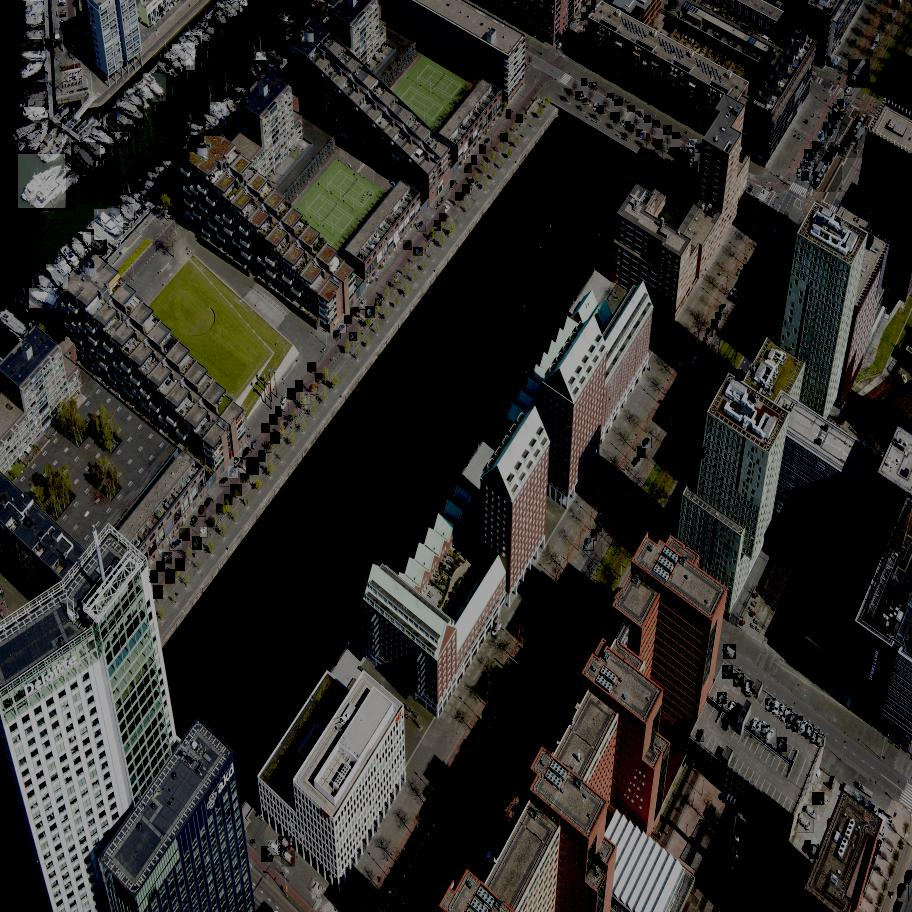large-vehicle: (466, 736, 509, 824), (813, 142, 845, 192), (839, 111, 869, 158), (848, 59, 871, 89)
ship: (16, 154, 73, 208), (26, 169, 83, 211), (270, 5, 304, 46), (25, 118, 58, 153), (44, 130, 72, 169), (34, 123, 63, 160), (94, 209, 126, 241), (70, 142, 101, 175), (35, 272, 65, 306), (113, 98, 149, 125), (0, 309, 30, 340), (121, 84, 150, 116), (75, 230, 109, 256), (80, 134, 113, 160), (102, 114, 128, 145), (106, 108, 138, 132), (53, 255, 81, 282), (68, 233, 92, 264), (157, 57, 184, 84), (60, 244, 86, 272), (143, 73, 168, 102), (17, 296, 47, 320), (19, 59, 49, 82), (90, 126, 120, 149), (178, 36, 203, 63), (172, 44, 197, 71), (13, 120, 42, 143), (45, 264, 70, 290), (29, 288, 59, 309), (121, 193, 147, 216), (107, 206, 134, 228), (164, 50, 187, 75), (133, 84, 161, 104), (139, 177, 164, 198), (215, 2, 241, 22), (145, 169, 169, 190), (151, 164, 175, 185), (23, 82, 49, 101), (191, 27, 218, 45), (218, 92, 240, 114), (24, 108, 50, 125), (160, 156, 181, 177), (256, 52, 279, 71), (22, 92, 50, 107), (203, 111, 226, 129), (197, 19, 220, 37), (173, 149, 194, 168), (210, 103, 228, 125), (217, 100, 236, 120), (212, 8, 230, 28), (183, 32, 205, 48), (204, 118, 223, 136), (187, 121, 208, 137), (266, 48, 285, 65), (134, 192, 151, 209), (250, 61, 270, 75), (25, 8, 45, 22), (24, 101, 47, 113), (22, 50, 47, 61), (121, 205, 136, 223), (139, 187, 155, 203), (205, 16, 223, 30), (26, 1, 44, 15), (18, 40, 43, 50), (232, 92, 247, 108), (234, 85, 251, 98), (249, 66, 262, 82), (191, 129, 204, 144), (187, 137, 199, 152), (25, 30, 44, 38), (284, 33, 296, 44), (26, 18, 42, 26), (324, 7, 334, 18), (78, 166, 87, 177), (320, 2, 329, 13), (284, 12, 293, 22), (291, 14, 299, 24), (280, 10, 289, 18), (96, 162, 101, 169)
small-vehicle: (797, 813, 816, 834), (279, 850, 297, 867), (896, 884, 912, 902), (722, 644, 739, 660), (277, 836, 292, 854), (268, 840, 284, 856), (803, 804, 819, 820), (246, 458, 261, 475), (544, 601, 559, 618), (261, 846, 276, 862), (785, 714, 800, 729), (776, 737, 789, 753), (766, 728, 779, 744), (792, 717, 805, 733), (152, 585, 166, 599), (165, 569, 178, 584), (145, 570, 160, 583), (491, 621, 503, 637), (505, 797, 518, 811), (733, 674, 746, 688), (777, 705, 789, 720), (781, 709, 793, 724), (809, 729, 821, 744), (812, 793, 827, 805), (722, 666, 735, 679), (755, 722, 768, 735), (728, 701, 740, 715), (798, 722, 810, 736), (809, 844, 820, 859), (179, 528, 191, 541), (230, 484, 243, 496), (365, 306, 378, 318), (631, 456, 643, 469), (572, 677, 585, 689), (613, 587, 626, 599), (765, 699, 777, 712), (170, 540, 184, 551), (192, 536, 203, 550), (584, 538, 595, 552), (487, 849, 497, 864), (805, 725, 815, 740), (161, 552, 173, 564), (174, 559, 186, 571), (264, 441, 276, 453), (286, 411, 298, 423), (300, 393, 312, 405), (308, 383, 320, 395), (717, 692, 729, 704), (257, 451, 269, 463), (287, 388, 298, 401), (279, 420, 290, 433), (570, 697, 581, 710), (251, 437, 261, 451), (751, 717, 761, 731), (270, 433, 282, 444), (499, 813, 510, 825), (554, 592, 566, 603), (243, 447, 253, 460), (281, 397, 290, 411), (805, 150, 814, 164), (315, 373, 326, 384), (351, 308, 362, 319), (642, 437, 653, 448), (228, 467, 238, 479), (235, 457, 245, 469), (269, 414, 279, 426), (613, 489, 623, 501), (637, 446, 647, 458), (684, 364, 694, 376), (816, 142, 826, 154), (486, 826, 494, 840), (535, 655, 543, 669), (216, 504, 226, 515), (224, 494, 234, 505), (832, 104, 842, 115), (403, 240, 413, 251), (417, 222, 427, 233), (619, 478, 629, 489), (695, 144, 706, 154), (734, 370, 744, 381), (190, 516, 199, 528), (198, 505, 207, 517), (204, 497, 213, 509), (295, 380, 304, 392), (359, 298, 368, 310), (601, 511, 610, 523), (691, 355, 700, 367), (745, 681, 752, 696), (762, 726, 770, 739), (697, 729, 705, 742), (262, 423, 272, 433), (220, 477, 230, 487), (338, 323, 348, 333), (344, 315, 354, 325), (668, 0, 678, 10), (655, 139, 665, 149), (686, 148, 696, 158), (671, 148, 681, 158), (719, 305, 729, 315), (663, 126, 673, 136), (762, 324, 772, 334), (200, 527, 209, 538), (240, 474, 251, 483), (156, 561, 165, 572), (333, 330, 342, 341), (394, 272, 403, 283), (546, 744, 555, 755), (607, 526, 616, 537), (812, 141, 821, 152), (661, 514, 669, 526), (804, 841, 812, 853), (275, 407, 284, 417), (636, 109, 645, 119), (308, 363, 317, 373), (500, 133, 509, 143), (413, 248, 423, 257), (439, 214, 449, 223), (588, 82, 598, 91), (516, 114, 525, 124), (566, 709, 572, 724), (680, 376, 689, 386), (711, 320, 720, 330), (729, 288, 738, 298), (807, 161, 816, 171), (801, 171, 810, 181), (434, 221, 442, 232), (566, 575, 574, 586), (674, 383, 682, 394), (552, 734, 560, 745), (608, 499, 615, 511), (723, 718, 730, 730), (774, 702, 780, 716), (557, 42, 566, 51), (57, 332, 66, 341), (349, 333, 358, 342), (485, 136, 494, 145), (445, 207, 454, 216), (575, 92, 584, 101), (456, 192, 465, 201), (620, 119, 629, 128), (689, 140, 698, 149), (844, 88, 853, 97), (208, 517, 216, 527), (168, 207, 176, 217), (464, 163, 472, 173), (652, 120, 662, 128), (583, 26, 591, 36), (831, 119, 839, 129), (818, 734, 824, 747), (165, 211, 173, 220), (375, 298, 383, 307), (582, 97, 591, 105), (593, 103, 601, 112), (828, 115, 837, 123), (743, 264, 752, 272), (800, 161, 808, 170), (893, 1, 902, 9), (480, 145, 487, 155), (463, 184, 470, 194), (614, 113, 621, 123), (841, 104, 848, 114), (707, 328, 714, 338), (699, 447, 705, 458), (636, 129, 644, 137), (581, 13, 589, 21), (587, 6, 595, 14), (568, 47, 576, 55), (581, 78, 589, 86), (598, 106, 606, 114), (625, 122, 633, 130), (644, 115, 652, 123), (469, 177, 476, 186), (471, 156, 478, 165), (607, 94, 616, 101), (627, 106, 636, 113), (668, 147, 675, 156), (672, 132, 681, 139), (836, 112, 843, 121), (451, 180, 457, 190), (507, 109, 513, 119), (597, 521, 603, 531), (592, 530, 598, 540), (573, 42, 581, 49), (614, 99, 622, 106), (837, 100, 844, 108), (640, 131, 647, 139), (823, 123, 830, 131), (693, 161, 699, 170), (703, 336, 709, 345), (887, 13, 893, 22), (819, 131, 825, 140), (798, 169, 803, 179), (629, 124, 635, 132), (591, 0, 597, 8), (578, 34, 584, 42), (562, 583, 566, 595), (652, 138, 658, 146), (716, 313, 722, 321), (185, 214, 191, 221), (610, 113, 616, 120), (661, 144, 667, 151), (874, 35, 880, 42), (58, 2, 66, 7), (59, 9, 66, 14), (690, 159, 695, 166), (828, 129, 833, 136), (700, 344, 704, 352), (814, 153, 818, 161), (741, 270, 744, 280), (673, 510, 677, 517), (60, 12, 66, 16), (646, 134, 650, 140), (667, 522, 670, 530), (578, 19, 581, 26), (581, 94, 584, 101), (60, 25, 65, 29), (882, 23, 885, 29), (61, 21, 66, 24), (569, 33, 572, 38), (60, 19, 63, 23), (60, 29, 64, 31)
